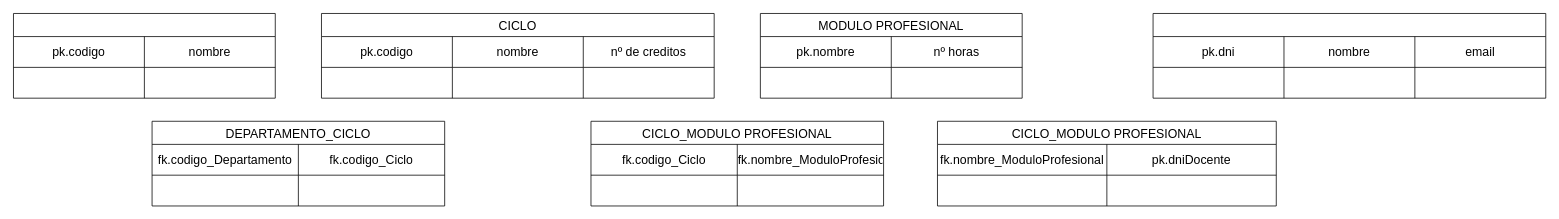
This 1559x219 diagram has some shape labels left out. Each missing label, with the box of its shape:
DEPARTAMENTO: (13, 13, 275, 98)
DOCENTE: (1152, 13, 1546, 98)
